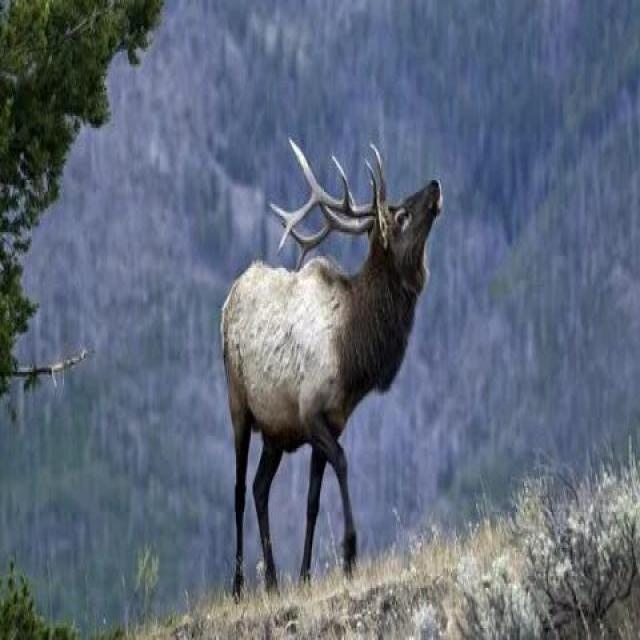deer: (180, 163, 464, 568)
